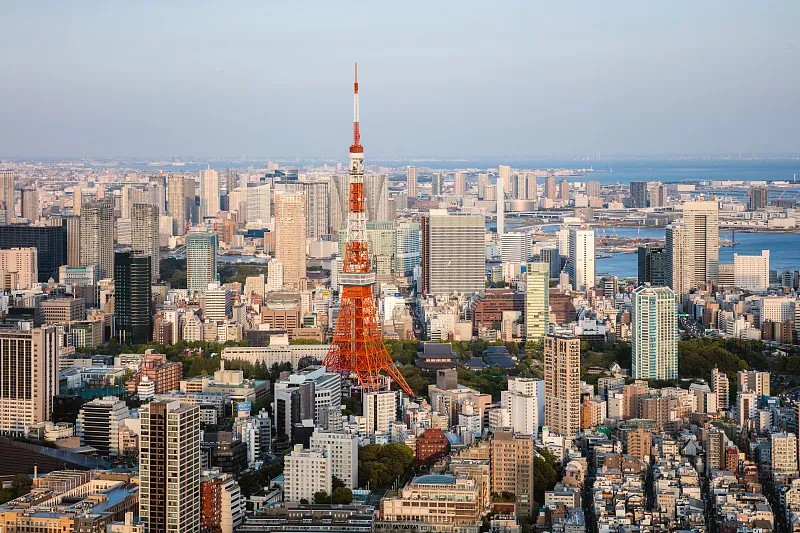Tokyo: (321, 55, 416, 400)
